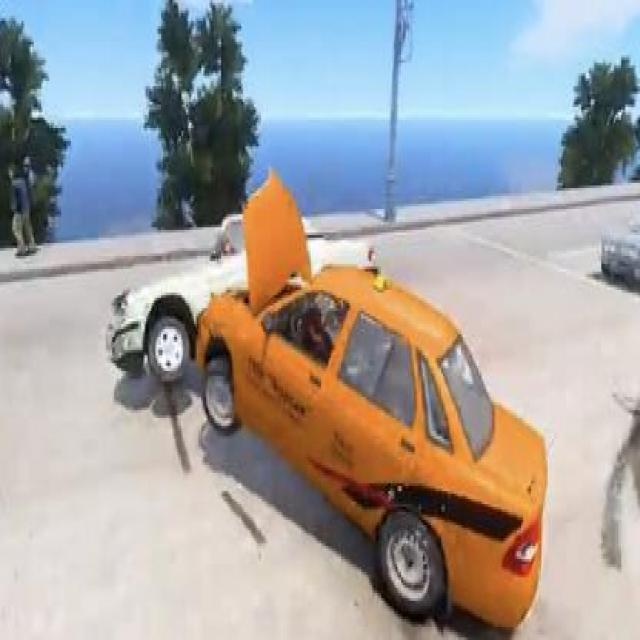accident: (100, 165, 551, 634)
